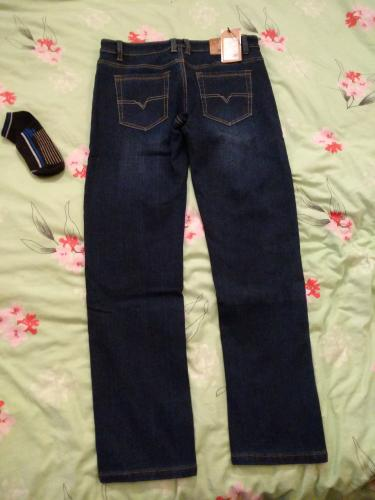jeans: (74, 30, 326, 478)
